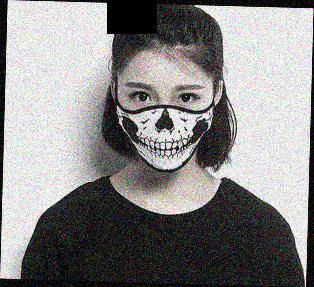with_mask: (114, 80, 216, 172)
